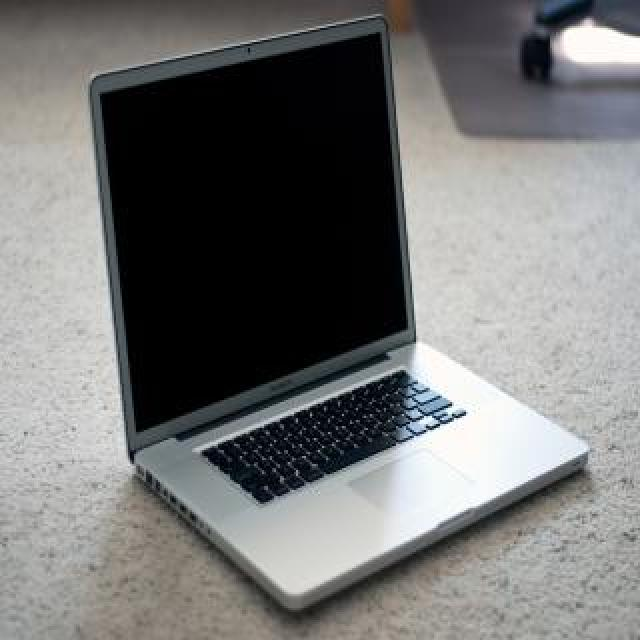laptop_computer: (80, 15, 588, 595)
